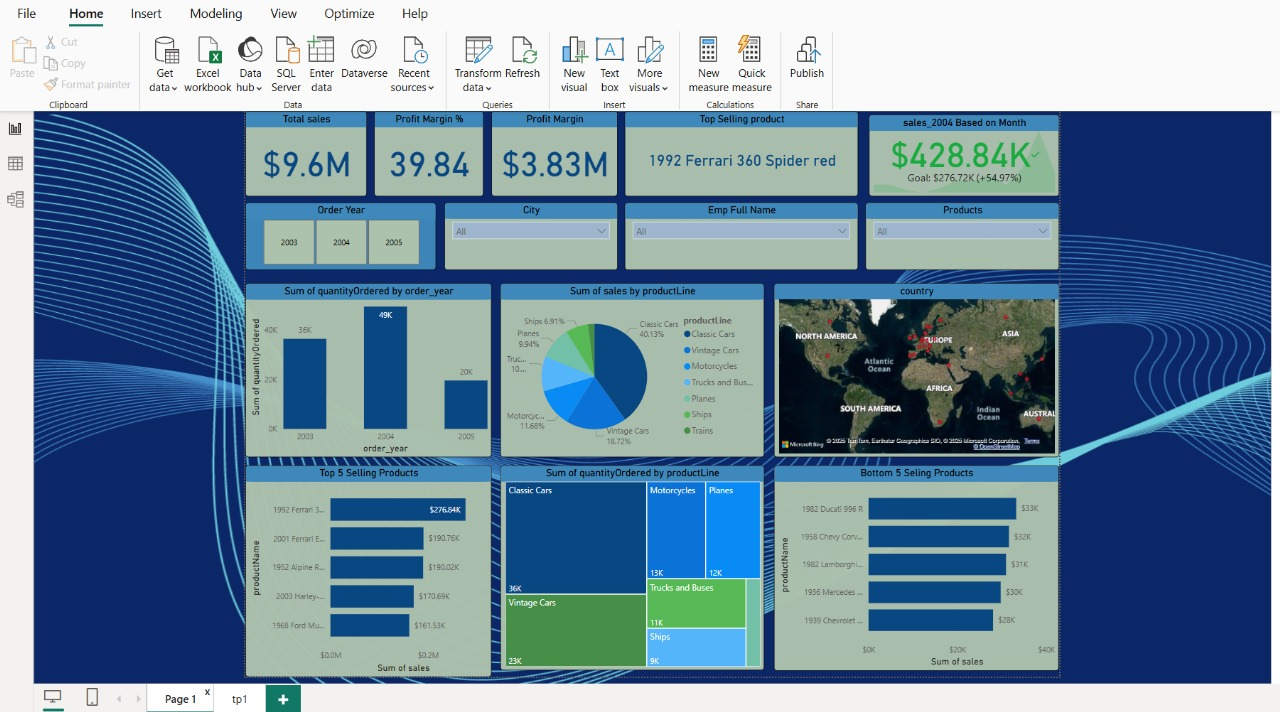

The dashboard page shown, as its layout file describes it:
{"tool":"powerbi","page":{"name":"Page 1","canvas":[1280,890],"ordinal":0},"visuals":[{"type":"card","title":"Profit Margin","fields":{"Values":["order details.total_profit"]},"box":[387,0,198.4,134.1],"z":0},{"type":"card","title":"Top Selling product","fields":{"Values":["order details.MostOrderedProduct"]},"box":[596.6,0,367.5,134.1],"z":1000},{"type":"barChart","title":"Top 5 Selling Products","fields":{"Category":["products.productName"],"Y":["order details.sales"]},"box":[0,557.5,387,332.5],"z":2000},{"type":"pieChart","fields":{"Category":["products.productLine"],"Y":["order details.sales"]},"box":[401,271.1,415,273.8],"z":3000},{"type":"slicer","title":"Order Year","fields":{"Values":["orders.order_year"]},"box":[0,143.9,300.4,106.2],"z":4000},{"type":"card","title":"Total sales","fields":{"Values":["order details.sales"]},"box":[0,0,191.4,134.1],"z":5000},{"type":"treemap","fields":{"Details":["productlines.productLine"],"Values":["order details.quantityOrdered"]},"box":[401,557.5,415,322.7],"z":6000},{"type":"columnChart","fields":{"Category":["orders.order_year"],"Y":["order details.quantityOrdered"]},"box":[0,271.1,387,273.8],"z":7000},{"type":"map","fields":{"Category":["customers.country"]},"box":[831.3,271.1,448.5,273.8],"z":8000},{"type":"card","title":"Profit Margin %","fields":{"Values":["order details.profit_margin_%"]},"box":[202.6,0,171.9,134.1],"z":9000},{"type":"slicer","title":"City","fields":{"Values":["offices.city"]},"box":[313,143.9,272.4,106.2],"z":10000},{"type":"slicer","title":"Emp Full Name","fields":{"Values":["employees.Full name"]},"box":[596.6,143.9,367.5,106.2],"z":11000},{"type":"slicer","title":"Products","fields":{"Values":["products.productLine"]},"box":[975.2,143.9,304.6,106.2],"z":12000},{"type":"barChart","title":"Bottom 5 Seling Products","fields":{"Category":["products.productName"],"Y":["order details.sales"]},"box":[831,557,448,323],"z":13000},{"type":"kpi","title":"sales_2004 Based on Month","fields":{"Indicator":["orders.sales_2004"],"Goal":["orders.sales_2003"],"TrendLine":["orders.Month Name"]},"box":[981.1,5.5,299.1,129],"z":14000}]}

Visuals, with their boxes on the page's 1280x890 design canvas (x1, y1, x2, y2). These are canvas units, not pixel positions in the 1280x712 screenshot, which may show the page scaled, cropped or inside an application window:
"Profit Margin" card: 387,0,585,134
"Top Selling product" card: 597,0,964,134
"Top 5 Selling Products" barChart: 0,558,387,890
pieChart - products.productLine x order details.sales: 401,271,816,545
"Order Year" slicer: 0,144,300,250
"Total sales" card: 0,0,191,134
treemap - productlines.productLine x order details.quantityOrdered: 401,558,816,880
columnChart - orders.order_year x order details.quantityOrdered: 0,271,387,545
map - customers.country: 831,271,1280,545
"Profit Margin %" card: 203,0,374,134
"City" slicer: 313,144,585,250
"Emp Full Name" slicer: 597,144,964,250
"Products" slicer: 975,144,1280,250
"Bottom 5 Seling Products" barChart: 831,557,1279,880
"sales_2004 Based on Month" kpi: 981,6,1280,134
